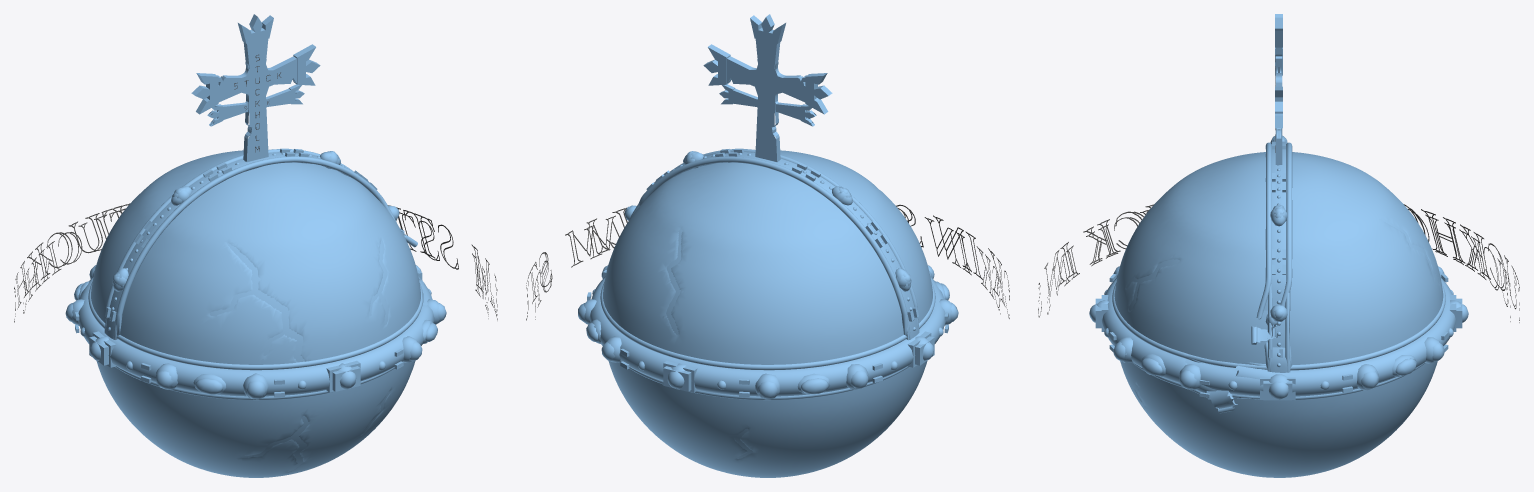
Rendered from globe_19oct.glb.
3 renders of one model, left to right at view 1: azimuth 30°, elevation 25°; view 2: azimuth 150°, elevation 25°; view 3: azimuth 270°, elevation 25°, orthographic.
Parts seen in each view (by area): view 1: BLOBBI part 02 (×2), BLOBBI part 06 (×2), Kors — utställda armar (×2), BLOBBI part 04 (×2), BLOBBI part 03 (×2), BLOBBI part 05, Krona — vänster, Krona — topp, Krona — höger; view 2: BLOBBI part 02 (×2), BLOBBI part 06, Kors — utställda armar (×2), BLOBBI part 04 (×2), BLOBBI part 03 (×2), BLOBBI part 05, Krona — vänster, Krona — topp, Krona — höger; view 3: BLOBBI part 02 (×2), BLOBBI part 06 (×2), BLOBBI part 03 (×2), BLOBBI part 04 (×2), BLOBBI part 05 (×2), Kors — utställda armar.
Part boxes in pixels (bbox=[...]): BLOBBI part 02 (×2): bbox=[91, 150, 420, 477]; BLOBBI part 06 (×2): bbox=[78, 149, 434, 400]; Kors — utställda armar (×2): bbox=[217, 39, 296, 161]; BLOBBI part 04 (×2): bbox=[72, 152, 439, 399]; BLOBBI part 03 (×2): bbox=[65, 151, 446, 398]; BLOBBI part 05: bbox=[75, 148, 403, 397]; Krona — vänster: bbox=[191, 73, 218, 114]; Krona — topp: bbox=[238, 14, 273, 43]; Krona — höger: bbox=[293, 44, 320, 85]; BLOBBI part 02 (×2): bbox=[603, 150, 932, 477]; BLOBBI part 06: bbox=[589, 149, 945, 400]; Kors — utställda armar (×2): bbox=[727, 39, 806, 161]; BLOBBI part 04 (×2): bbox=[583, 151, 952, 399]; BLOBBI part 03 (×2): bbox=[578, 151, 958, 399]; BLOBBI part 05: bbox=[587, 148, 948, 397]; Krona — vänster: bbox=[805, 73, 832, 114]; Krona — topp: bbox=[750, 14, 785, 43]; Krona — höger: bbox=[703, 44, 730, 85]; BLOBBI part 02 (×2): bbox=[1114, 152, 1443, 477]; BLOBBI part 06 (×2): bbox=[1101, 142, 1456, 400]; BLOBBI part 03 (×2): bbox=[1089, 136, 1468, 400]; BLOBBI part 04 (×2): bbox=[1096, 135, 1460, 399]; BLOBBI part 05 (×2): bbox=[1104, 141, 1453, 397]; Kors — utställda armar: bbox=[1275, 47, 1282, 164].
Size of the model in its own units: 0.299 by 0.3089 by 0.2994.
